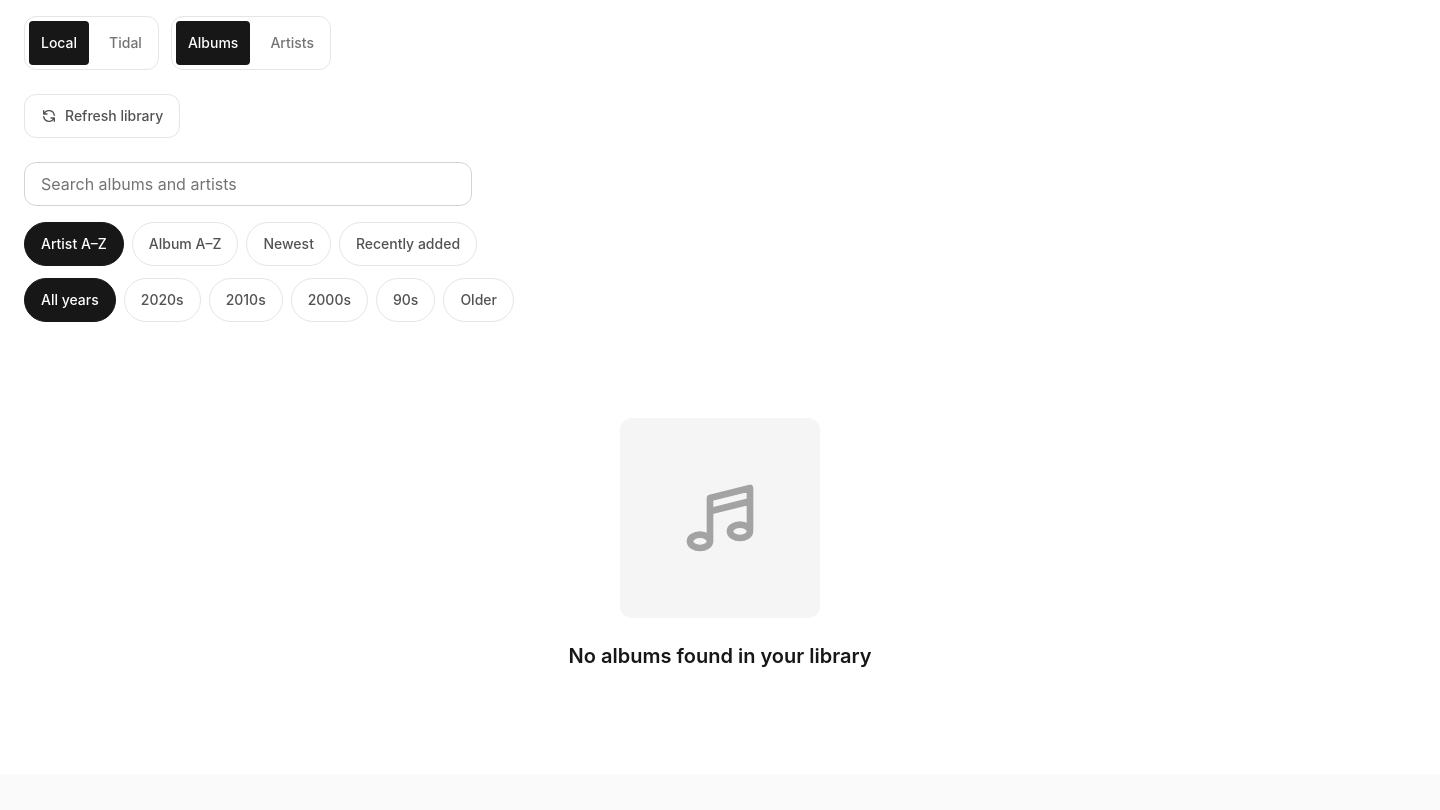
Test case: LibraryView — notices for capped and reordered results › decade scope › stays away from an empty result, which has no ordering to explain
The width and height of the screenshot is (1440, 810).
Click the button with test id "decade-chip-2020s". click: click(162, 300)
box: x1=124 y1=278 x2=201 y2=322
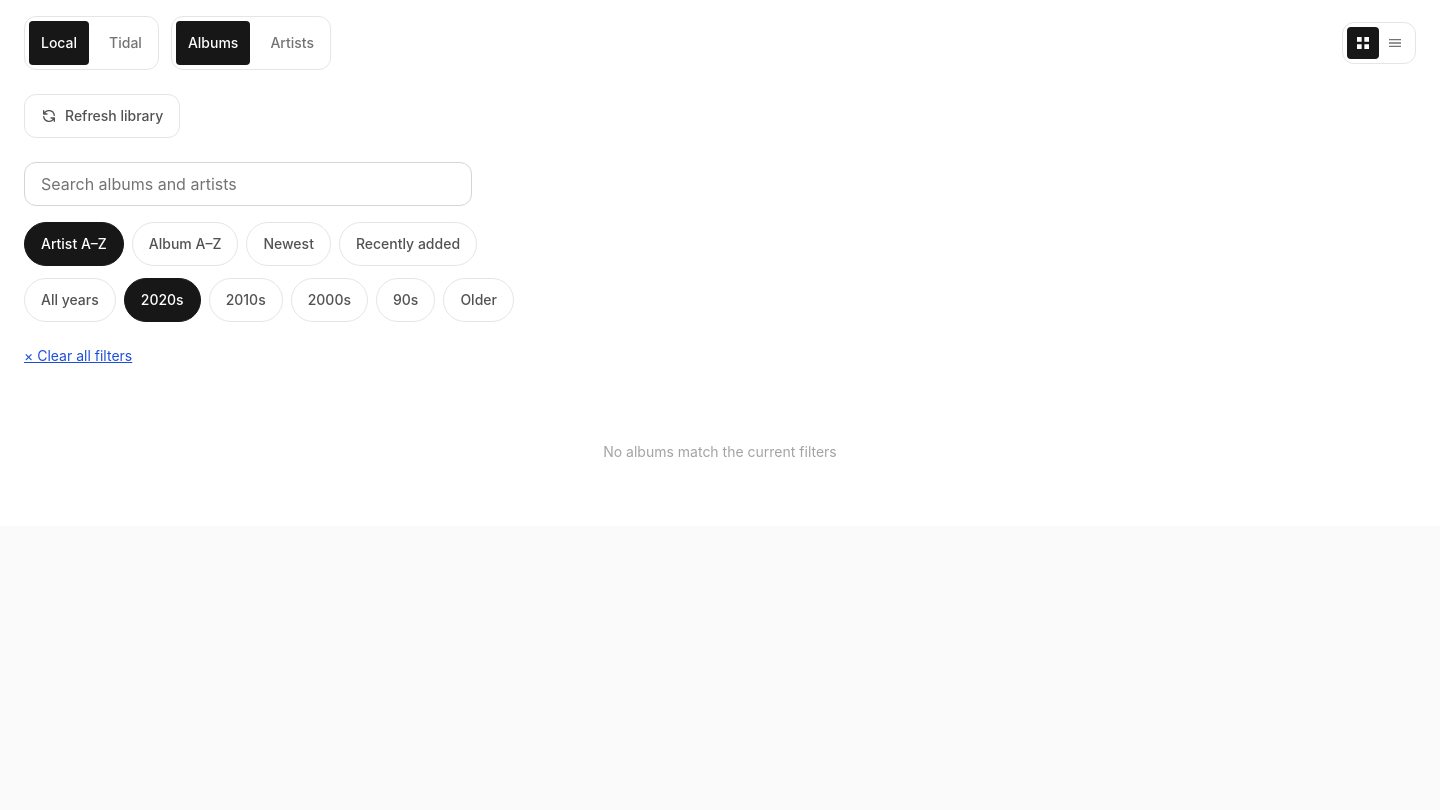
Result: the element with test id "no-filter-results" is shown at x1=603 y1=443 x2=837 y2=460
